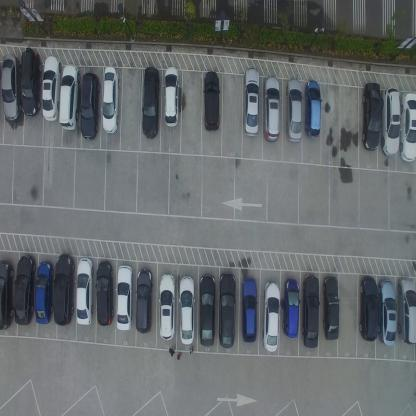car: (13, 254, 36, 326), (53, 252, 74, 326), (20, 46, 42, 116), (58, 63, 80, 131), (141, 66, 161, 140), (80, 70, 101, 140), (0, 52, 21, 122), (301, 274, 320, 348), (377, 277, 397, 347), (218, 272, 236, 349), (101, 66, 121, 134), (381, 86, 400, 157), (359, 274, 379, 341), (262, 279, 280, 353), (75, 256, 94, 326), (362, 80, 380, 152), (242, 66, 260, 138), (95, 258, 114, 326), (42, 54, 61, 122), (398, 276, 416, 347), (262, 74, 280, 144), (197, 272, 214, 346), (134, 268, 153, 334), (34, 261, 53, 325), (115, 263, 133, 330), (158, 271, 175, 340), (322, 275, 340, 340), (178, 273, 194, 345), (240, 276, 257, 343), (400, 92, 416, 162), (203, 68, 220, 132), (285, 78, 301, 144), (304, 78, 321, 140), (0, 259, 14, 333), (163, 65, 179, 127), (283, 278, 299, 338)
